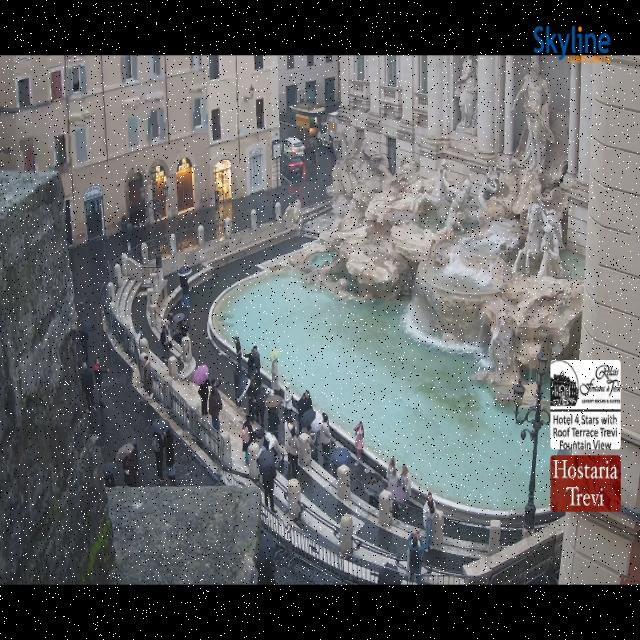person: (256, 539, 276, 584), (408, 531, 424, 584), (81, 363, 97, 414), (209, 377, 222, 431), (152, 433, 166, 483), (423, 492, 435, 550), (94, 359, 108, 408), (242, 415, 255, 464), (262, 469, 276, 512), (247, 377, 260, 422), (288, 426, 299, 477), (165, 429, 175, 484), (265, 432, 283, 462), (244, 346, 260, 378), (320, 413, 331, 459), (129, 440, 139, 485), (256, 379, 265, 428), (283, 381, 294, 421), (241, 420, 251, 464), (142, 355, 152, 398), (272, 358, 283, 396), (199, 379, 210, 416), (160, 323, 170, 361), (354, 422, 363, 464), (400, 465, 411, 499), (123, 456, 135, 487), (298, 391, 312, 417), (234, 364, 242, 407), (80, 330, 89, 362), (387, 457, 397, 485), (180, 277, 189, 308), (268, 408, 279, 433), (234, 337, 242, 364), (172, 324, 182, 344), (181, 322, 187, 337)
